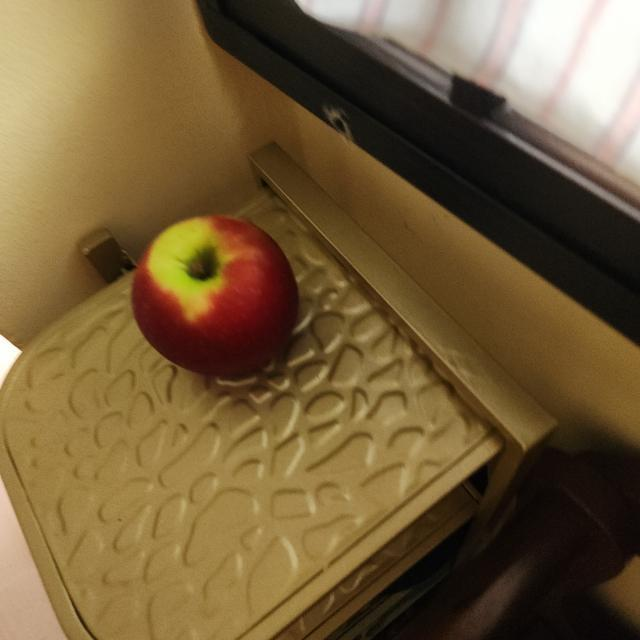apple: (122, 206, 310, 392)
